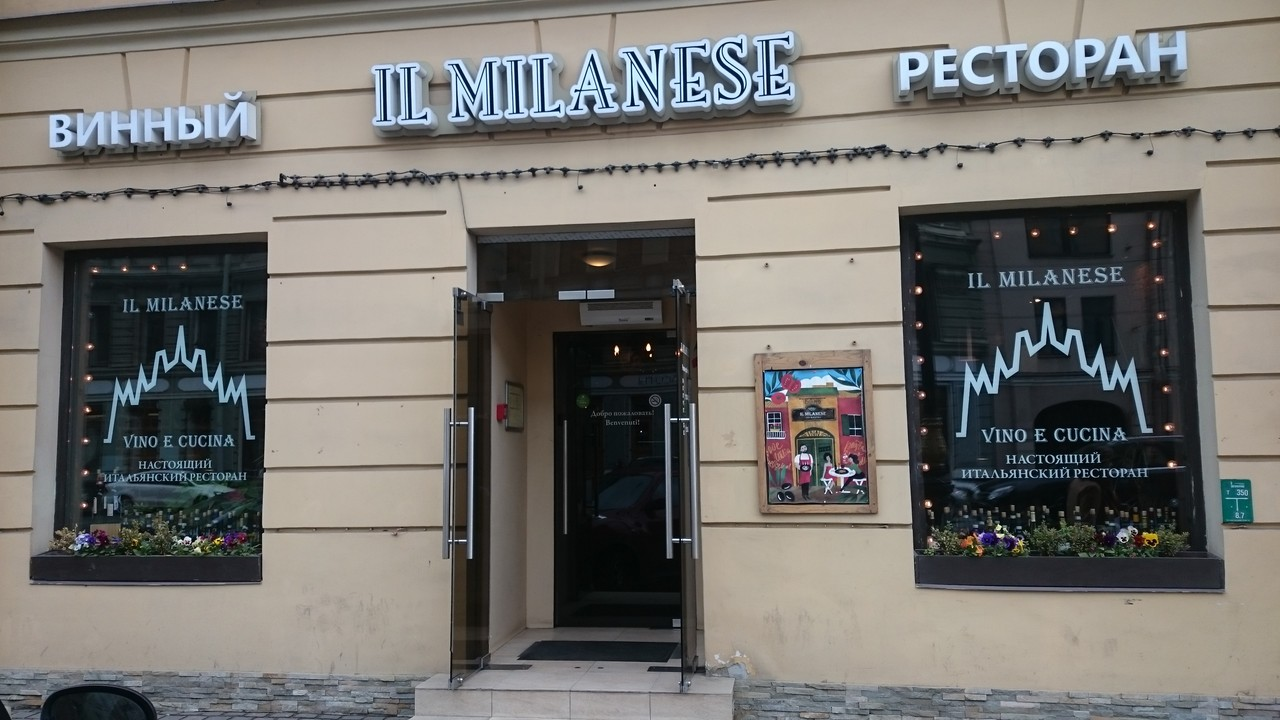door: (450, 283, 696, 694)
signboard: (366, 32, 801, 136), (890, 27, 1192, 105), (47, 89, 263, 149)
window: (897, 209, 1217, 589), (29, 238, 267, 580)
